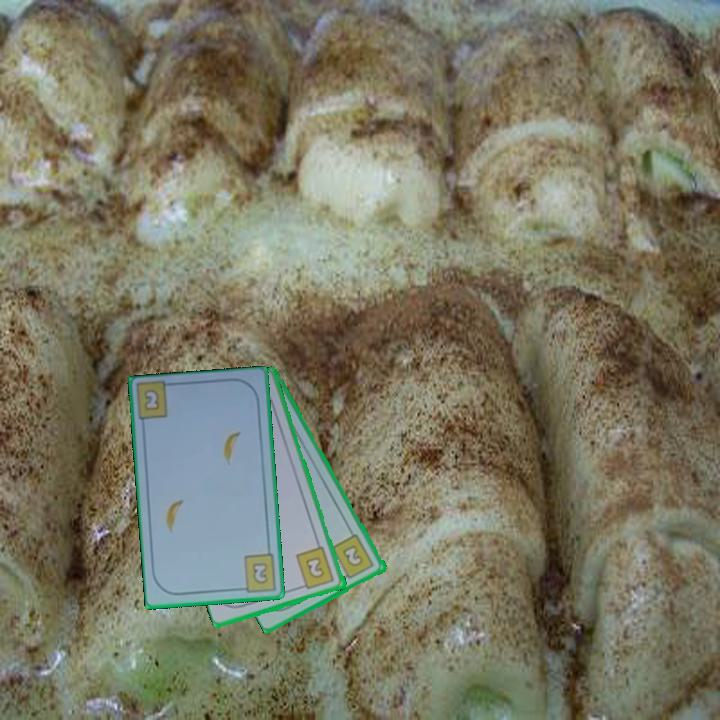2b: (329, 531, 377, 583), (293, 544, 337, 592), (235, 550, 279, 594), (140, 386, 163, 414)
